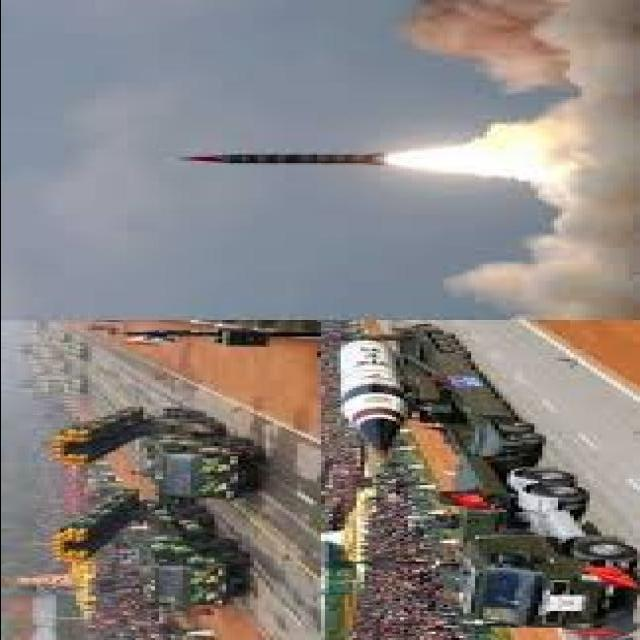Missile: (325, 338, 408, 454), (178, 149, 388, 166)
